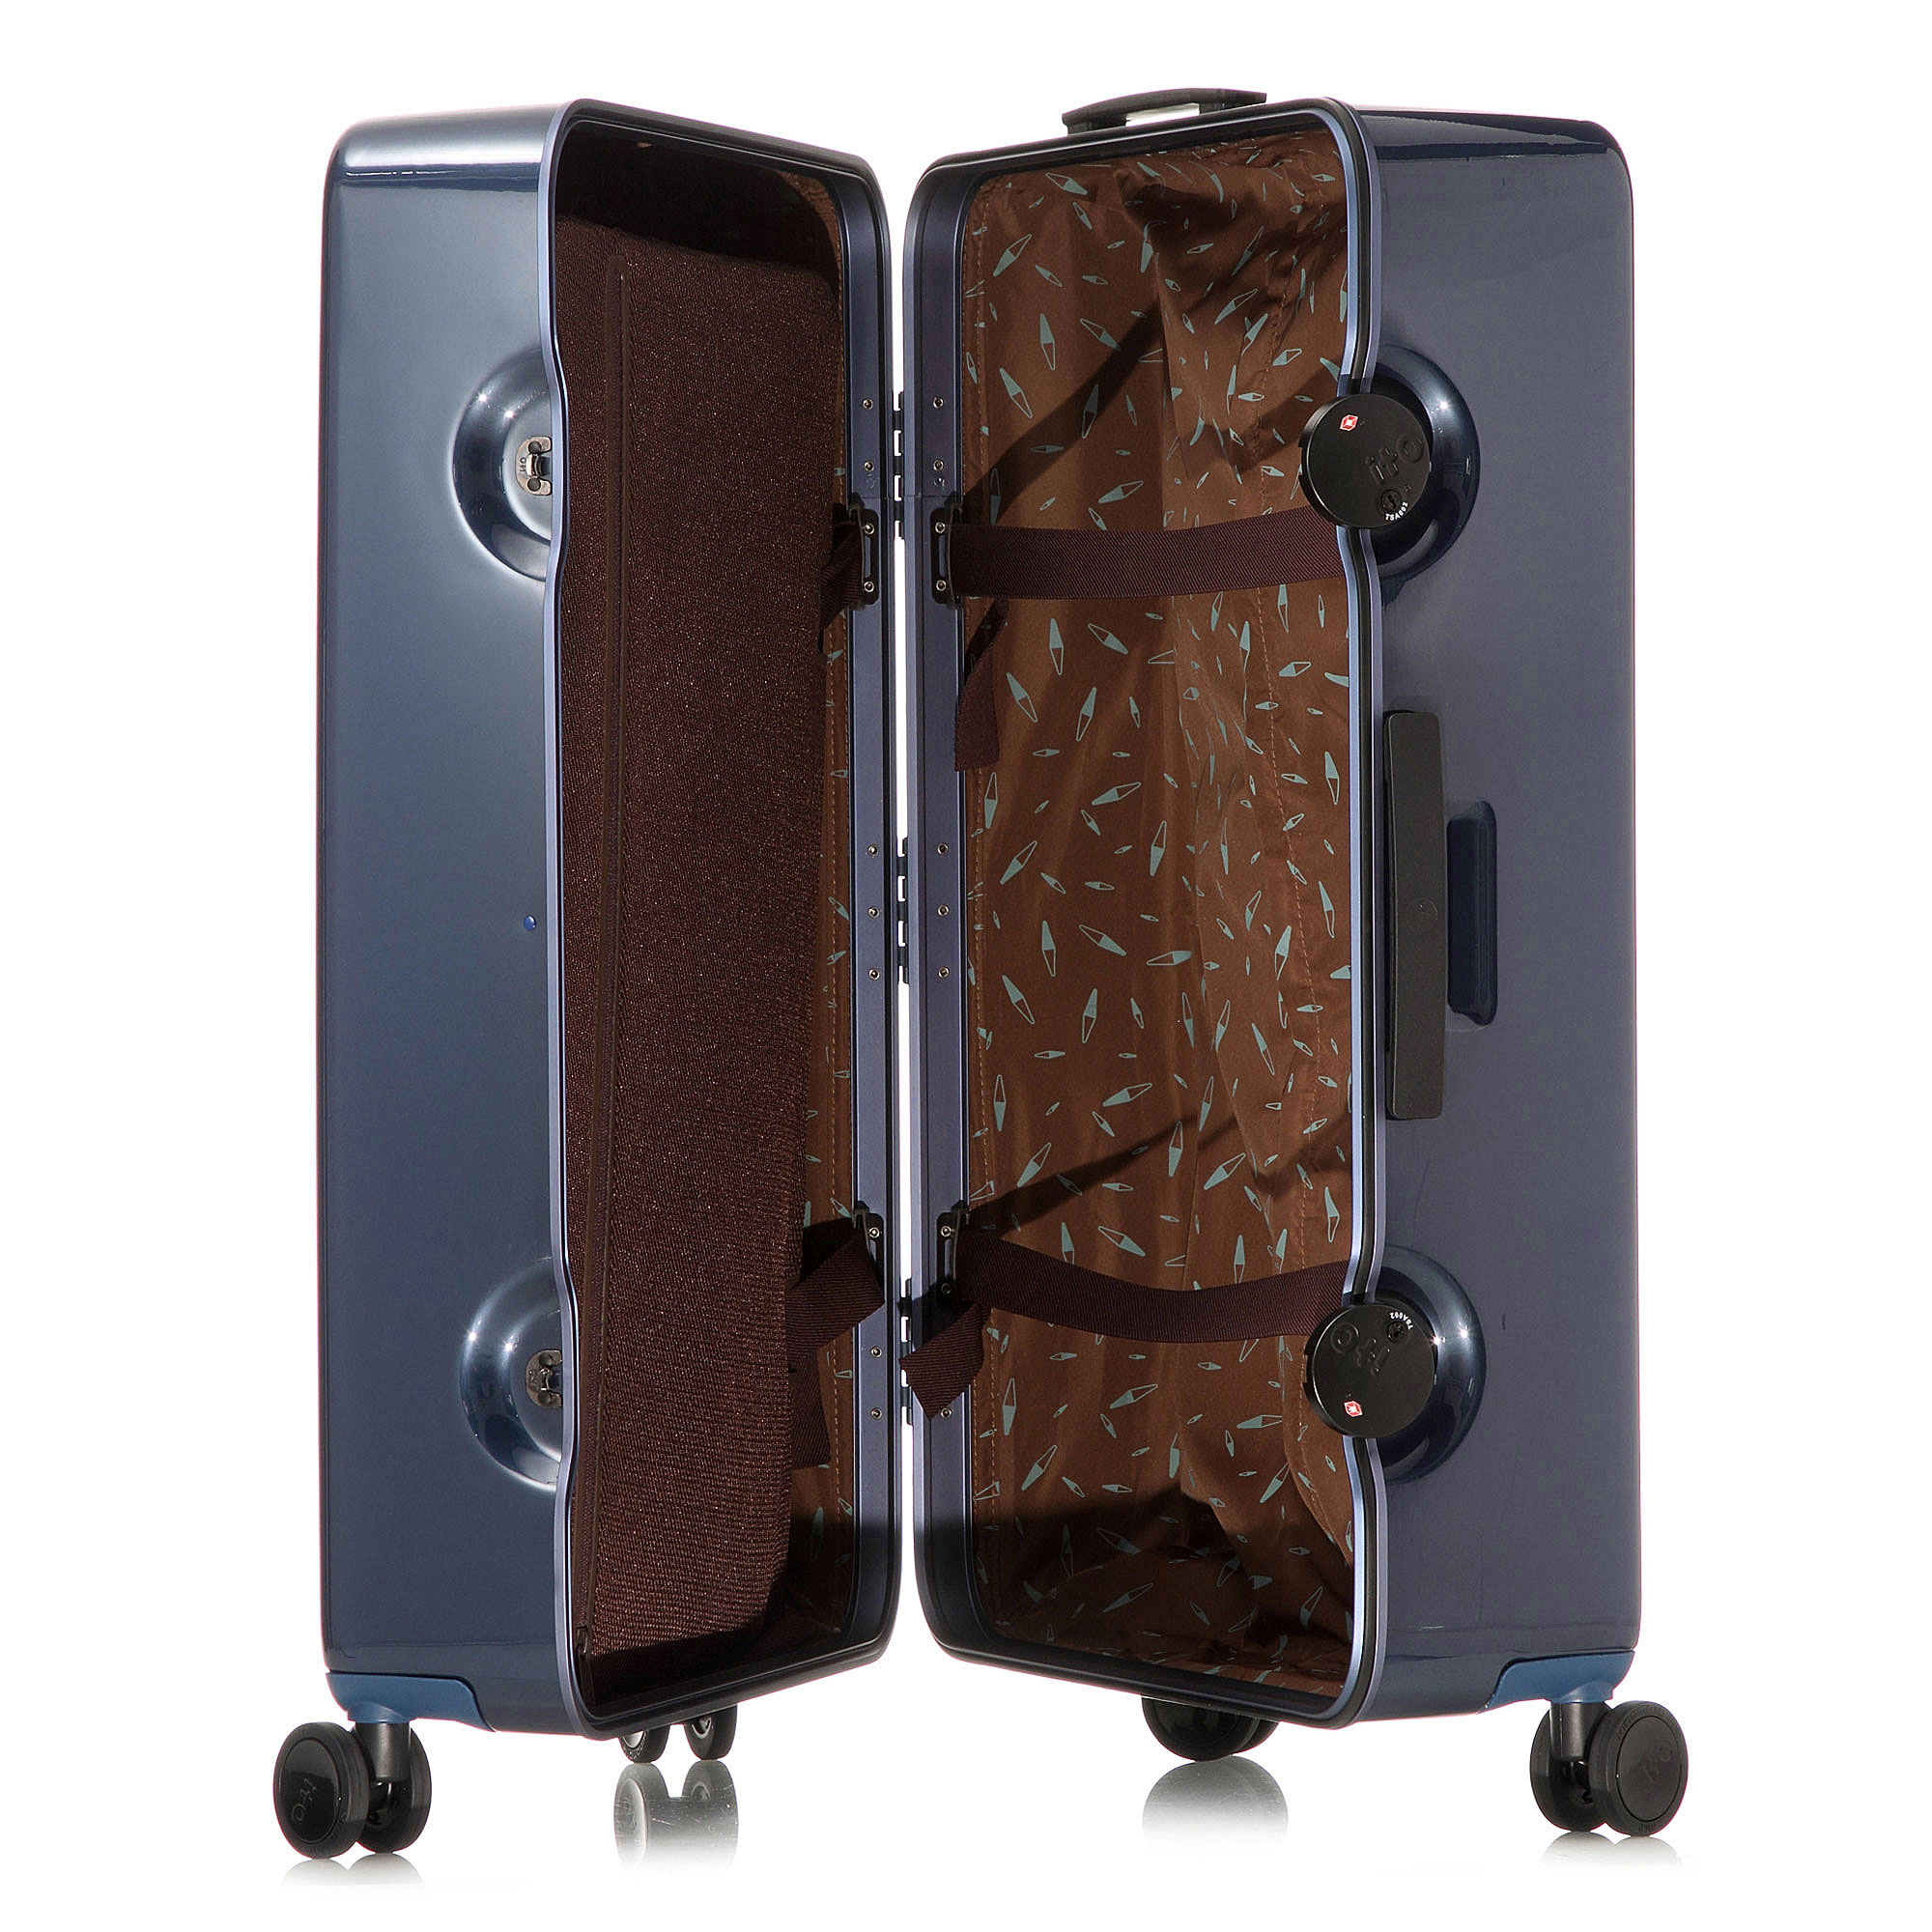suitcase: (265, 85, 1695, 1863)
